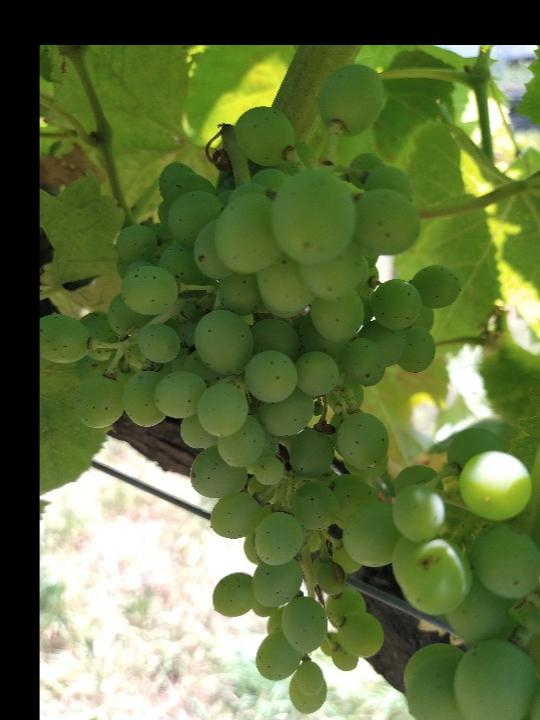grape: (42, 64, 463, 718)
